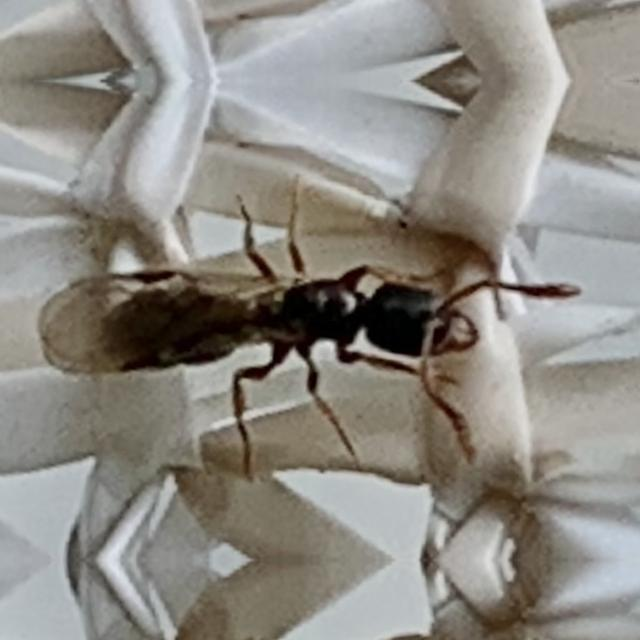Ponera: (9, 167, 556, 437)
